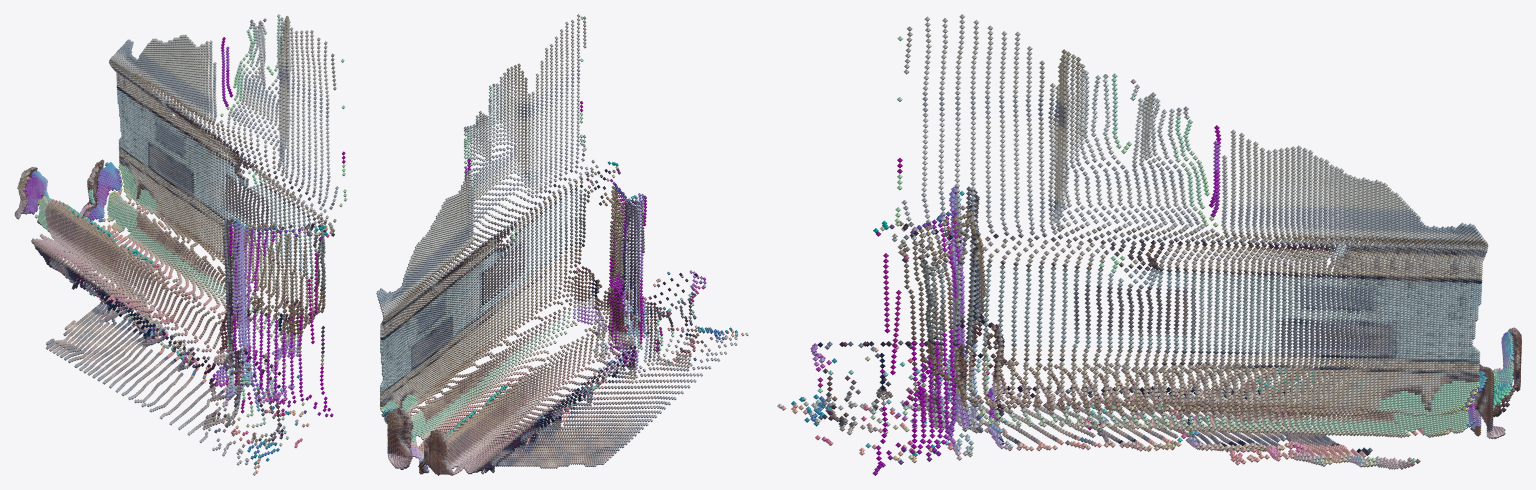
Rendered from combine_gt.glb.
3 renders of one model, left to right at view 1: azimuth 30°, elevation 25°; view 2: azimuth 150°, elevation 25°; view 3: azimuth 270°, elevation 25°, orthographic. The views are drawn at different scales.
Visible parts, largest first — view 1: world; view 2: world; view 3: world.
Boxes of the visible parts, left/top/right/bottom form: world: left=14, top=14, right=347, bottom=475; world: left=376, top=14, right=748, bottom=475; world: left=777, top=14, right=1521, bottom=475.
Size of the model in its own units: 2.7 by 5.22 by 7.34.
